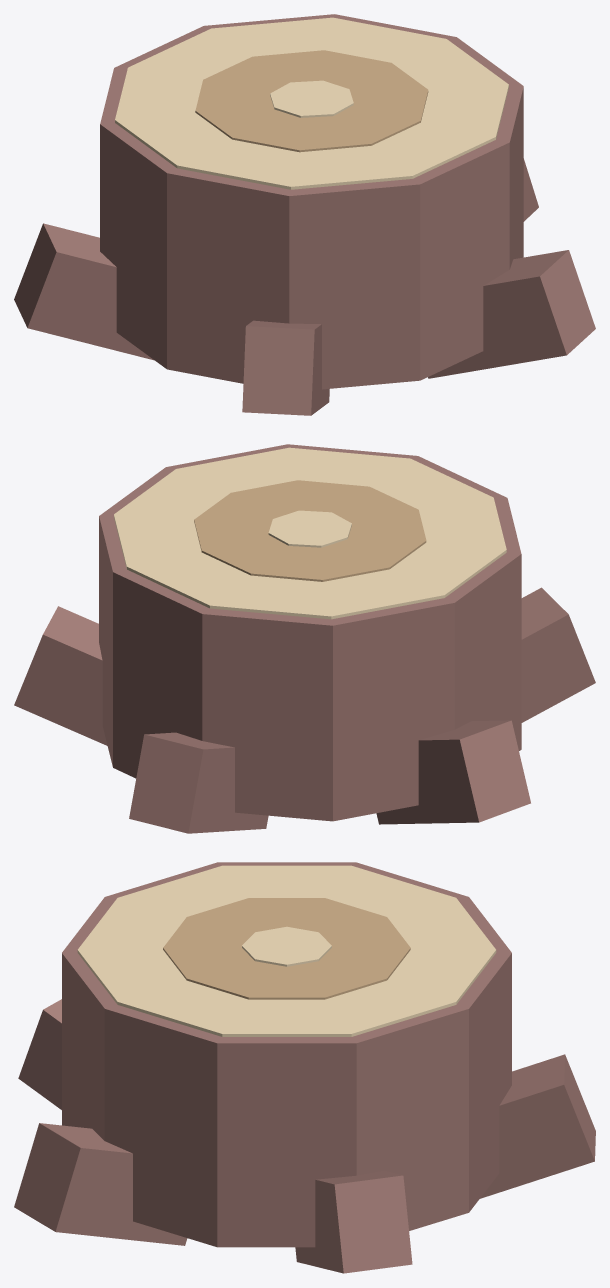
The model's file is Stump_Cherry.fbx.
3 views of the same model, one above another, from view 1: azimuth 30°, elevation 25°; view 2: azimuth 150°, elevation 25°; view 3: azimuth 270°, elevation 25° (orthographic). The views are drawn at different scales.
Visible parts, largest first — view 1: Stump_Cherry_Mesh; view 2: Stump_Cherry_Mesh; view 3: Stump_Cherry_Mesh.
Boxes of the visible parts, x1,y1,x2,y2 form: Stump_Cherry_Mesh: (14, 14, 595, 415); Stump_Cherry_Mesh: (14, 444, 595, 833); Stump_Cherry_Mesh: (14, 862, 595, 1273).
Size of the model in its own units: 2.71 by 1.23 by 2.59.
